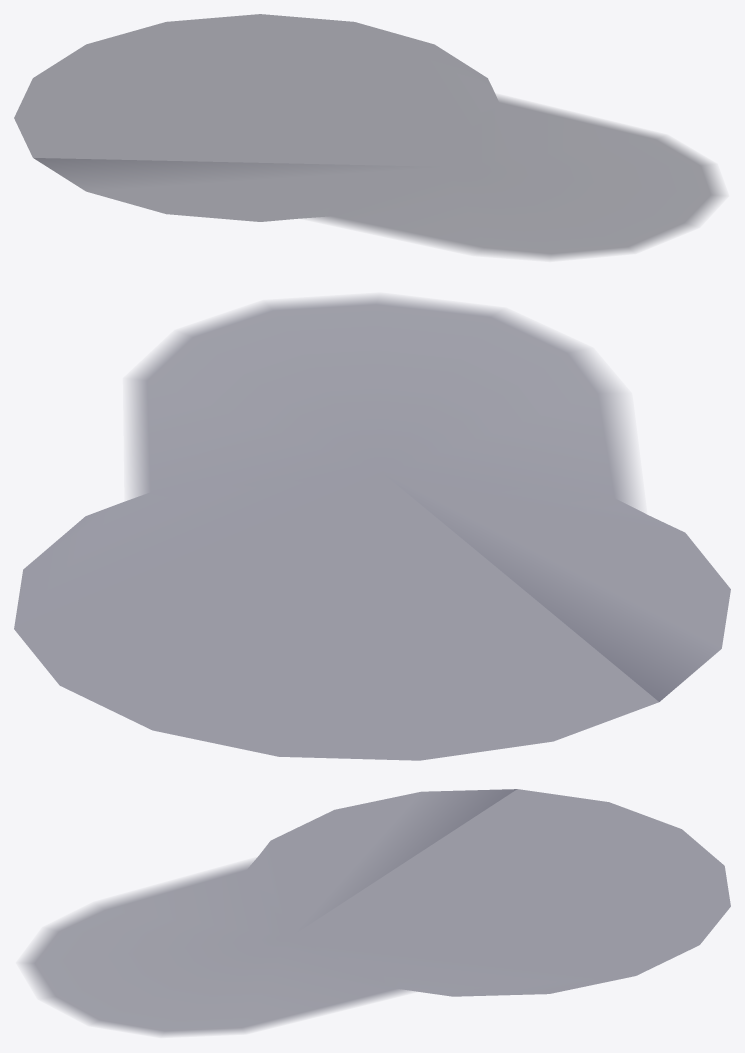
3 renders of one model, top to bottom at view 1: azimuth 30°, elevation 25°; view 2: azimuth 150°, elevation 25°; view 3: azimuth 270°, elevation 25°, orthographic. The views are drawn at different scales.
Parts seen in each view (by area): view 1: Joint_0_Object_0; view 2: Joint_0_Object_0; view 3: Joint_0_Object_0.
Part boxes in pixels (box(x1,y1,x2,y2)): Joint_0_Object_0: box(14, 14, 723, 259); Joint_0_Object_0: box(14, 296, 730, 760); Joint_0_Object_0: box(22, 789, 730, 1035).
Size of the model in its own units: 400 by 0.0266 by 485.
1 material, 1 textured.
